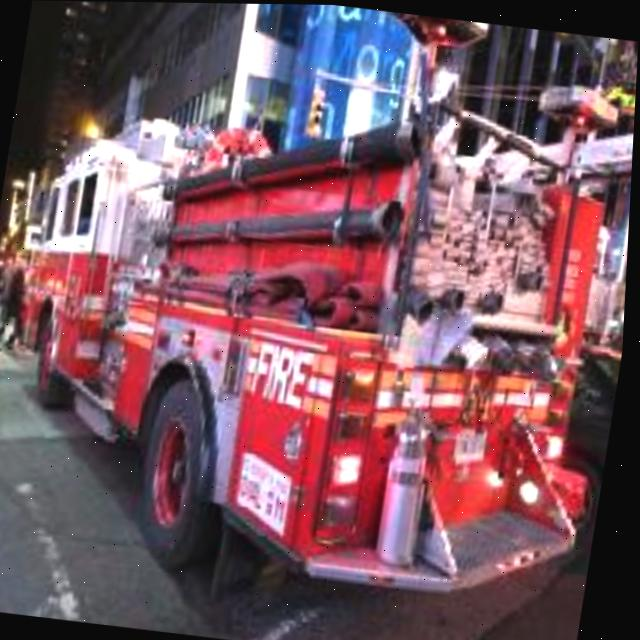emergency: (0, 64, 637, 632)
